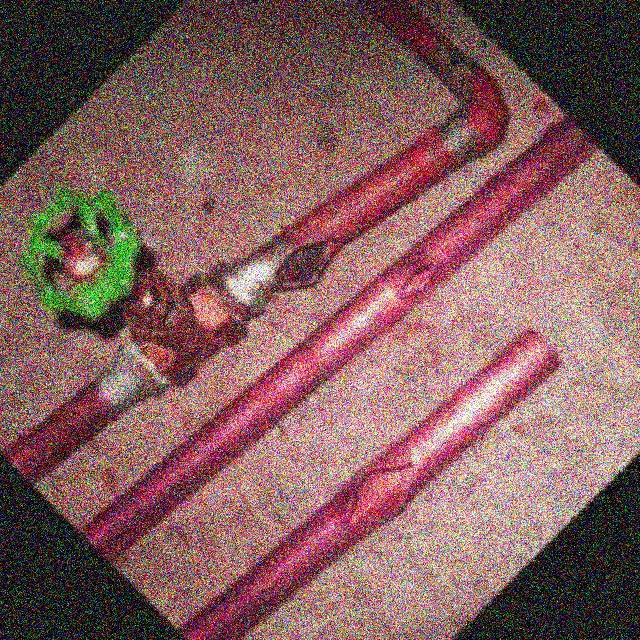Hole: (338, 449, 420, 537), (263, 235, 342, 292), (392, 263, 438, 302)
